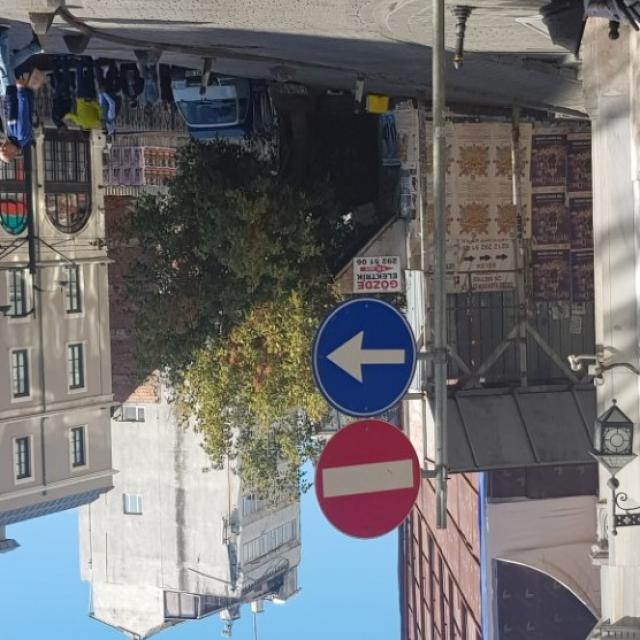Turn Left: (318, 297, 421, 413)
